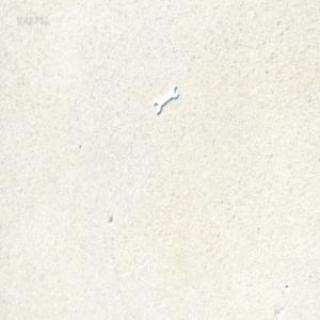Wrenchtrack_idkeyframe: (153, 82, 178, 114)
